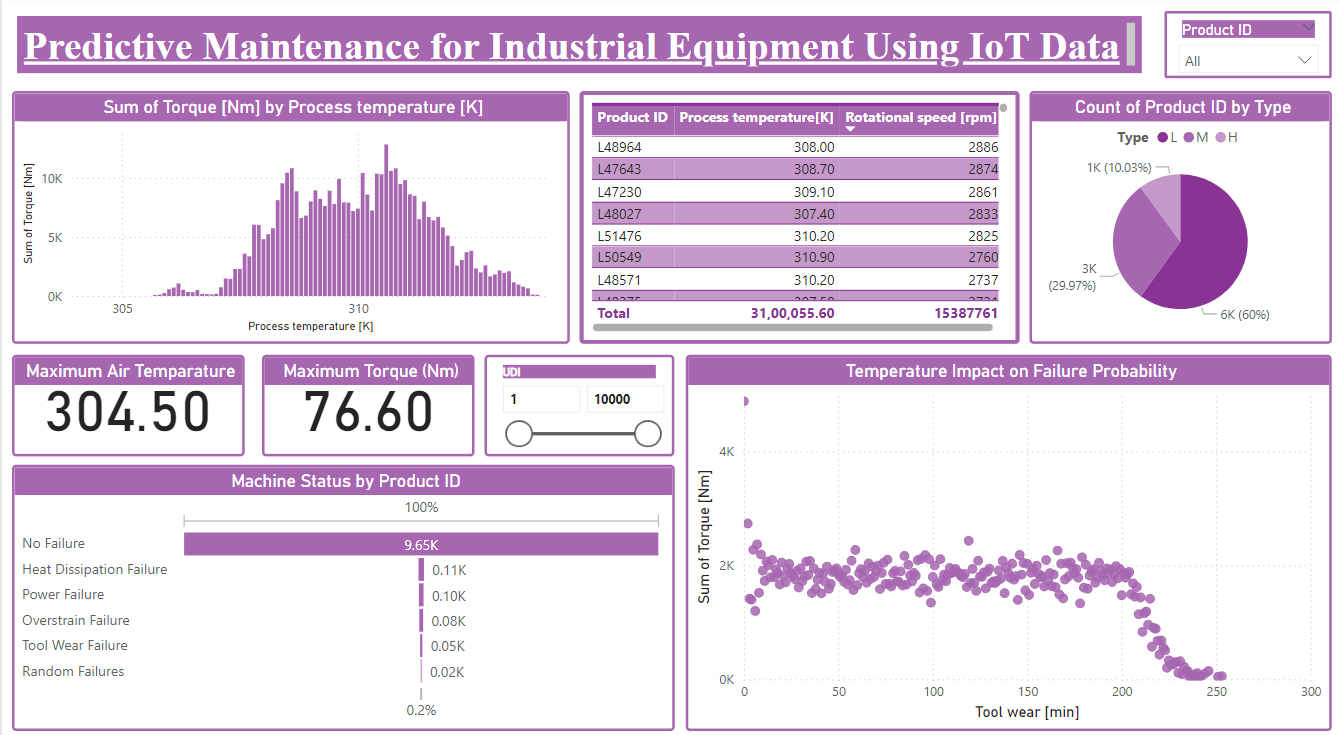

Layout of this report page (visuals, bound fields, positions):
{"tool":"powerbi","page":{"name":"Page 1","canvas":[1280,720],"ordinal":0},"visuals":[{"type":"clusteredColumnChart","fields":{"Y":["Sum(Table1.Torque [Nm])"],"Category":["Table1.Process temperature [K]"]},"box":[9.5,90.5,531,240.5],"z":0},{"type":"funnel","title":"Machine Status by Product ID","fields":{"Category":["Table1.Failure Type"],"Y":["CountNonNull(Table1.Product ID)"]},"box":[9.5,446.4,631,253.6],"z":1000},{"type":"scatterChart","title":"Temperature Impact on Failure Probability","fields":{"X":["Table1.Tool wear [min]"],"Y":["Table1.Torque [Nm]"]},"box":[651.2,341.7,615.5,358.3],"z":2000},{"type":"tableEx","fields":{"Values":["Table1.Product ID","Sum(Table1.Process temperature [K])","Sum(Table1.Rotational speed [rpm])"]},"box":[550,90.5,419,240.5],"z":3000},{"type":"card","title":"Maximum Air Temparature ","fields":{"Values":["Max(Table1.Air temperature [K])"]},"box":[9.5,341.7,221.4,96.4],"z":4000},{"type":"card","title":"Maximum Torque (Nm)","fields":{"Values":["Max(Table1.Torque [Nm])"]},"box":[247.6,341.7,202.4,96.4],"z":5000},{"type":"pieChart","fields":{"Category":["Table1.Type"],"Y":["CountNonNull(Table1.Product ID)"]},"box":[978.6,90.5,288.1,240.5],"z":6000},{"type":"textbox","box":[9.5,14.3,1081,64.3],"z":7000},{"type":"slicer","fields":{"Values":["Table1.Product ID"]},"box":[1107.1,14.3,159.5,64.3],"z":8000},{"type":"slicer","fields":{"Values":["Table1.UDI"]},"box":[459.5,341.7,181,96.4],"z":9000}]}

Visuals, with their boxes in screenshot pixels (x1, y1, x2, y2), scaled from the page's 1280x720 canvas onto the 1340x735 screenshot:
clusteredColumnChart - Sum(Table1.Torque [Nm]) x Table1.Process temperature [K]: x1=10 y1=92 x2=566 y2=338
"Machine Status by Product ID" funnel: x1=10 y1=456 x2=671 y2=715
"Temperature Impact on Failure Probability" scatterChart: x1=682 y1=349 x2=1326 y2=715
tableEx - Table1.Product ID x Sum(Table1.Process temperature [K]): x1=576 y1=92 x2=1014 y2=338
"Maximum Air Temparature " card: x1=10 y1=349 x2=242 y2=447
"Maximum Torque (Nm)" card: x1=259 y1=349 x2=471 y2=447
pieChart - Table1.Type x CountNonNull(Table1.Product ID): x1=1024 y1=92 x2=1326 y2=338
textbox: x1=10 y1=15 x2=1142 y2=80
slicer - Table1.Product ID: x1=1159 y1=15 x2=1326 y2=80
slicer - Table1.UDI: x1=481 y1=349 x2=671 y2=447
